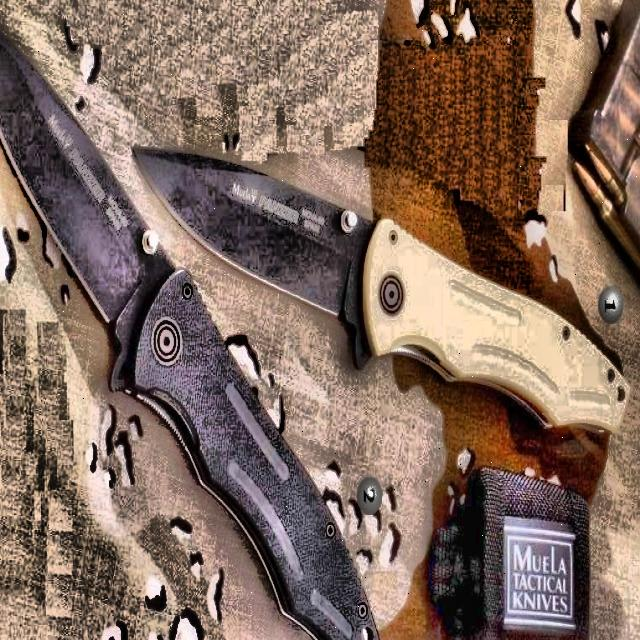knife: (0, 6, 381, 640), (131, 148, 631, 431)
